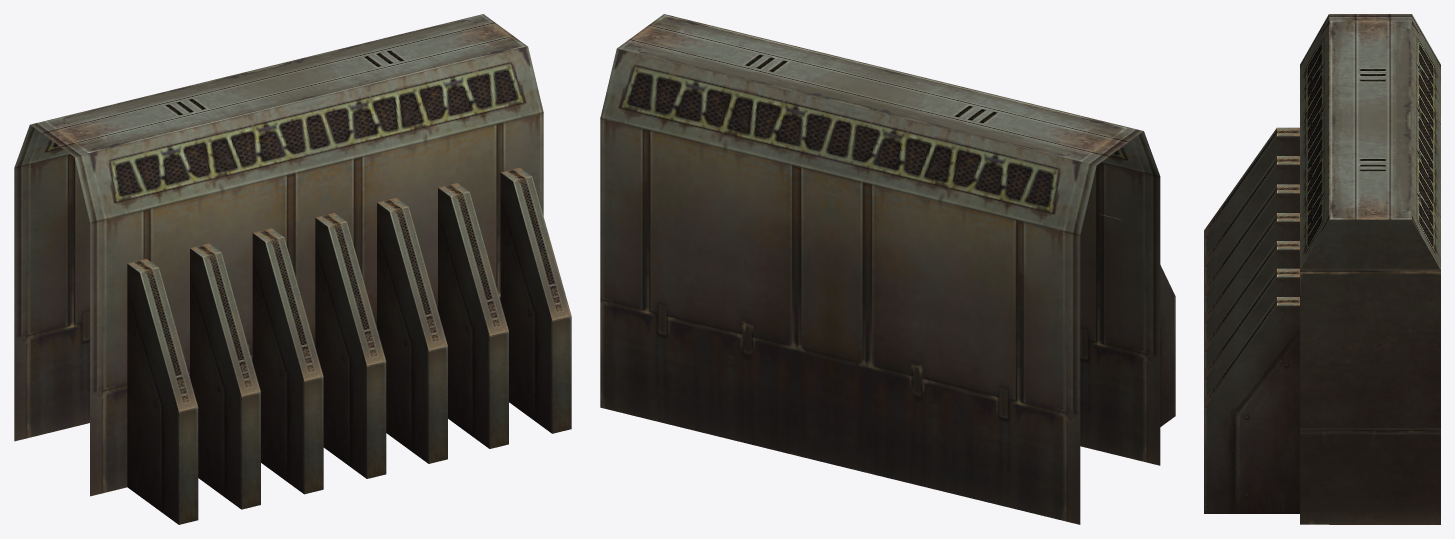
File: leinabaobianyuan_damen02.FBX
3 views of the same model, side by side, from view 1: azimuth 30°, elevation 25°; view 2: azimuth 150°, elevation 25°; view 3: azimuth 270°, elevation 25° (orthographic). The views are drawn at different scales.
Parts seen in each view (by area): view 1: leinabaobianyuan_damen02; view 2: leinabaobianyuan_damen02; view 3: leinabaobianyuan_damen02.
Boxes of the visible parts, bbox=[...] form: leinabaobianyuan_damen02: bbox=[14, 14, 571, 524]; leinabaobianyuan_damen02: bbox=[600, 14, 1175, 524]; leinabaobianyuan_damen02: bbox=[1204, 14, 1440, 524].
Bounding box in the file's own units: 757 × 524 × 368.
